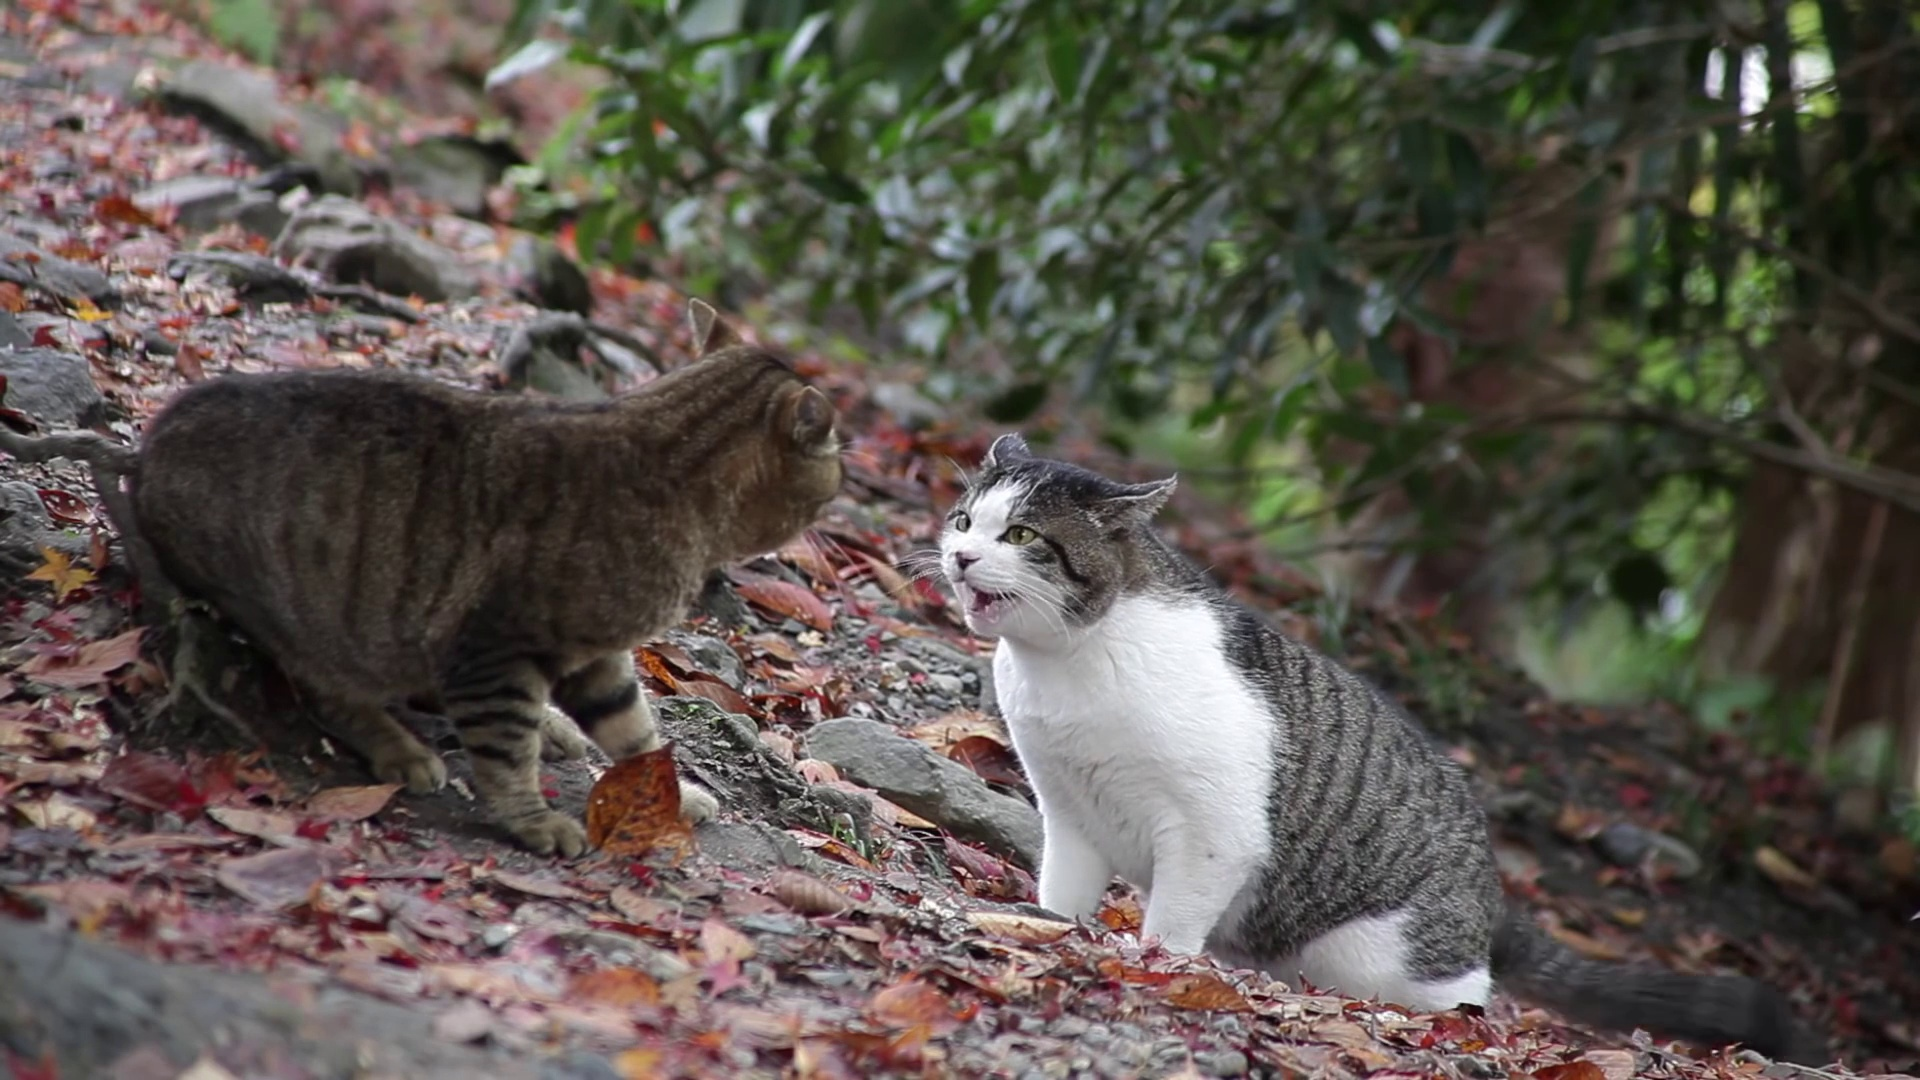black-white: (942, 433, 1493, 1009)
pure black: (131, 297, 843, 862)
